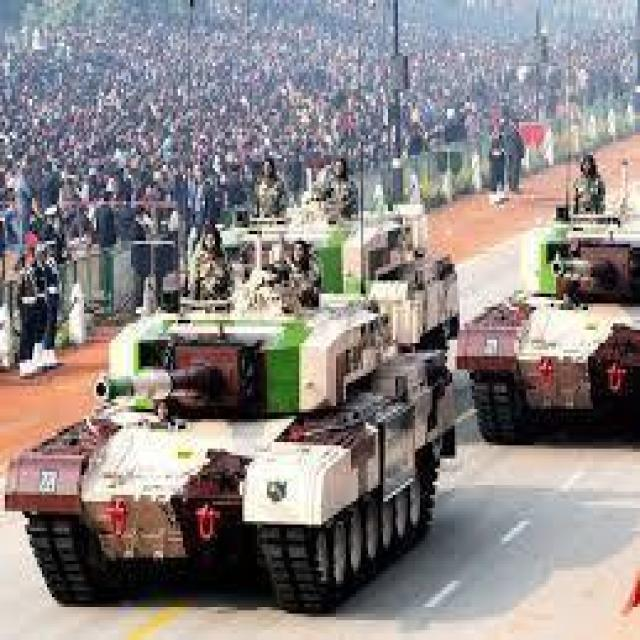Tanks: (12, 216, 460, 602), (461, 199, 639, 457)
